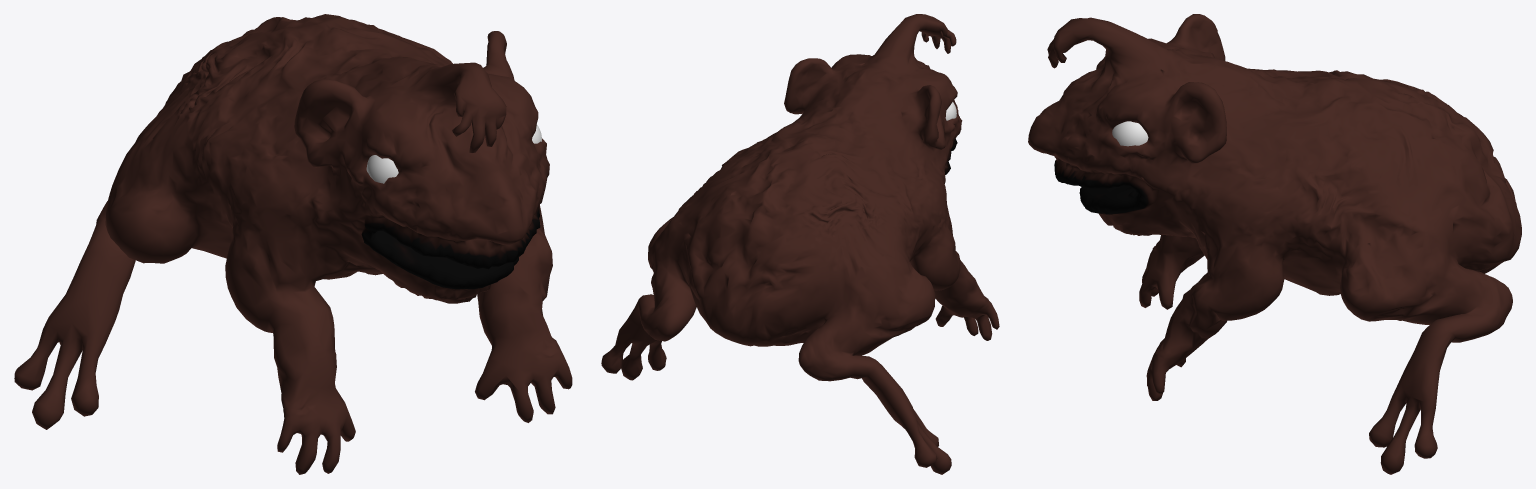
File: Rat Toad.fbx
3 renders of one model, left to right at view 1: azimuth 30°, elevation 25°; view 2: azimuth 150°, elevation 25°; view 3: azimuth 270°, elevation 25°, orthographic. The views are drawn at different scales.
Parts seen in each view (by area): view 1: Quad Sphere, Sphere; view 2: Quad Sphere; view 3: Quad Sphere, Sphere.
Boxes of the visible parts, box(x1,y1,x2,y2) form: Quad Sphere: box(14, 14, 572, 474); Sphere: box(366, 124, 541, 183); Quad Sphere: box(601, 14, 999, 474); Quad Sphere: box(1028, 14, 1521, 474); Sphere: box(1112, 121, 1148, 146).
Bounding box in the file's own units: 362 × 318 × 381.
